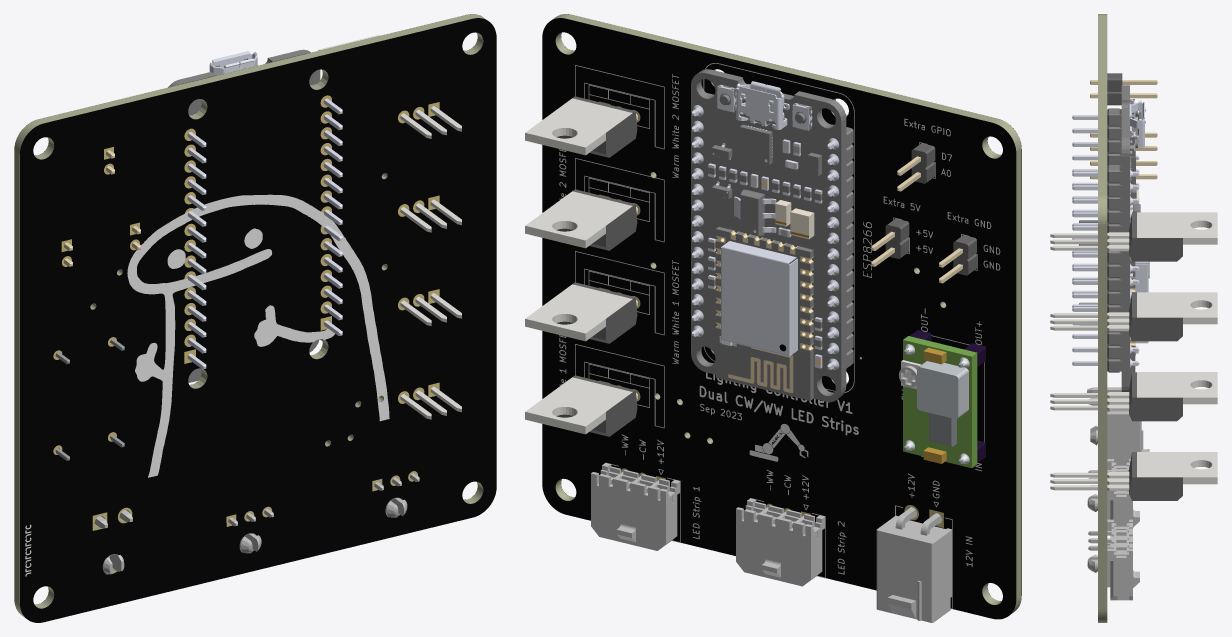
File: lighting_controller_pcb.glb
The picture shows the model from 3 angles, left to right: view 1: azimuth 30°, elevation 25°; view 2: azimuth 150°, elevation 25°; view 3: azimuth 270°, elevation 25°; orthographic projection. The views are drawn at different scales.
Parts seen in each view (by area): view 1: Object_4; view 2: Object_4; view 3: Object_4.
Part boxes in pixels (box(x1,y1,x2,y2)): Object_4: box(14, 14, 496, 622); Object_4: box(525, 14, 1021, 622); Object_4: box(1050, 14, 1217, 622).
Bounding box in the file's own units: 0.08 × 0.08 × 0.0285.
1 material, 1 textured.
